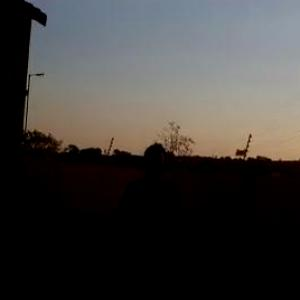follow: (113, 136, 186, 299)
